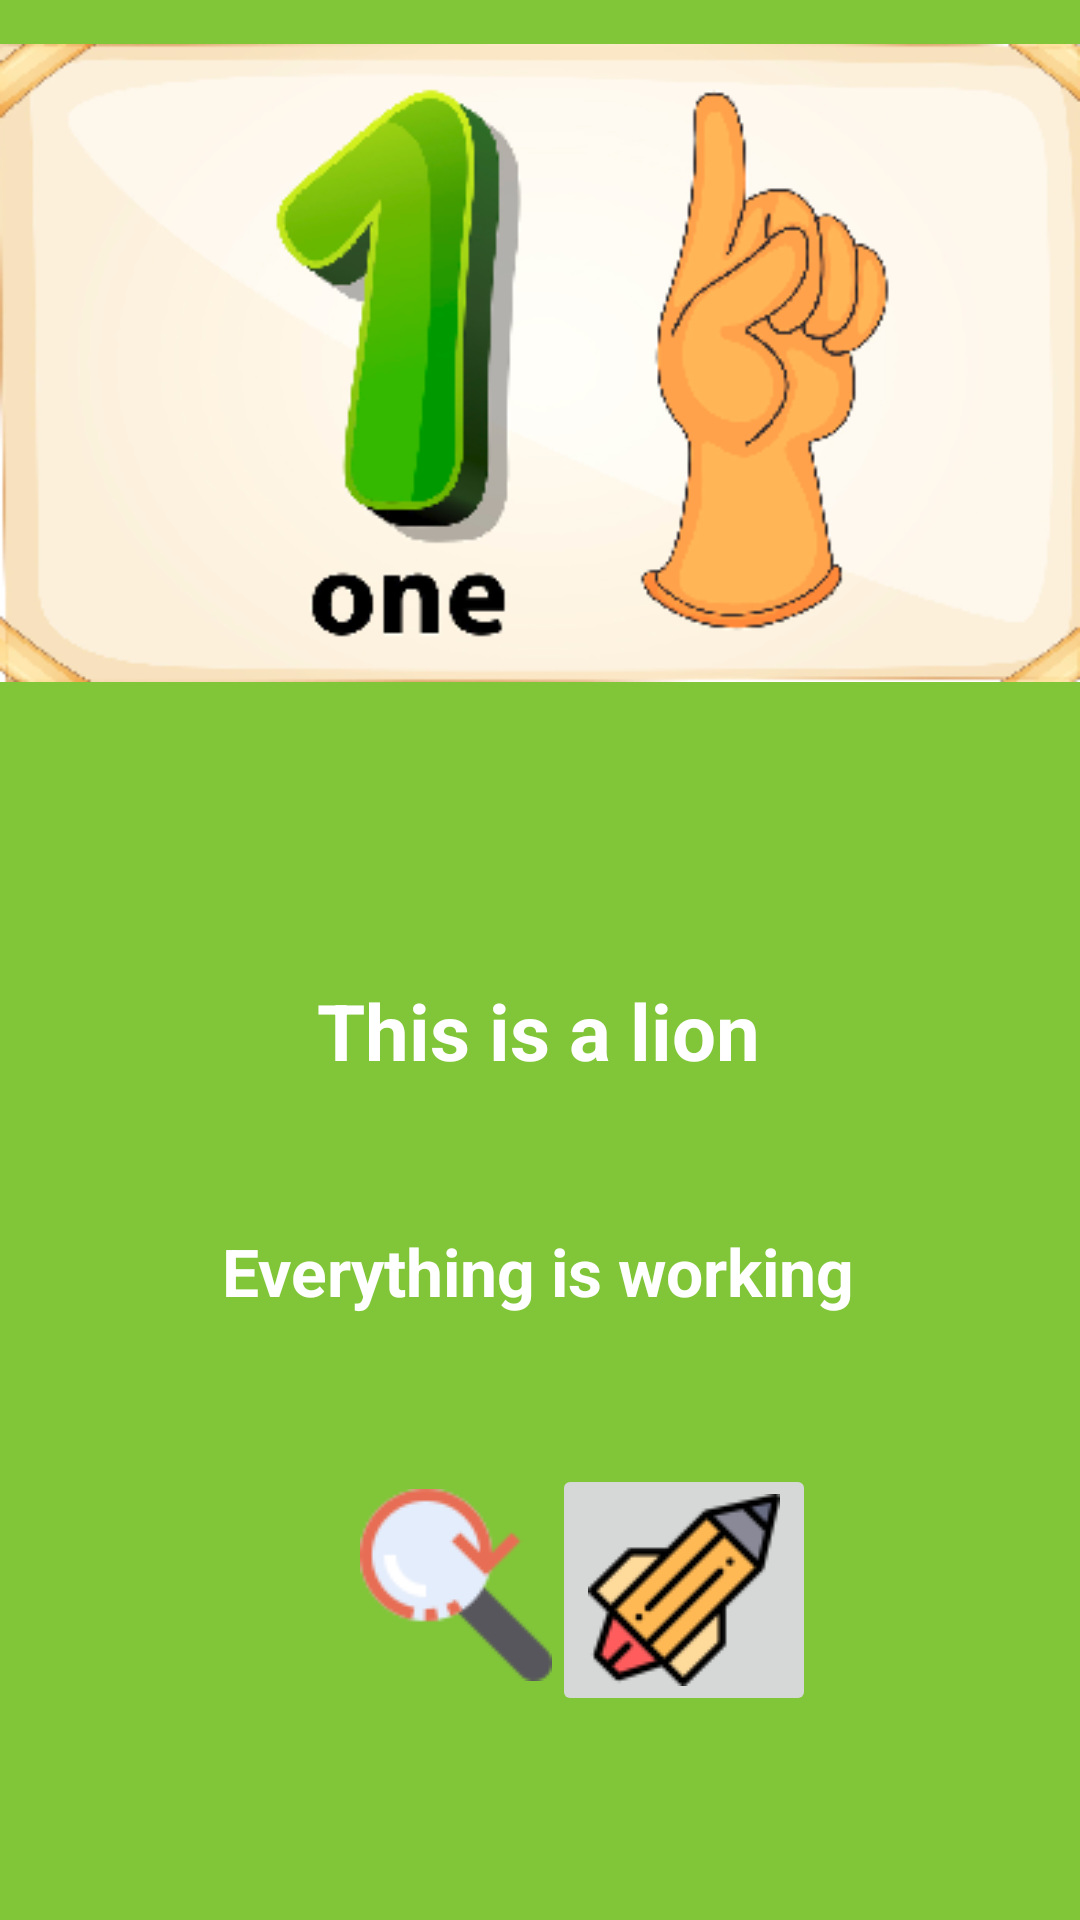

Locate icon controls on the screen. Image size 1080w x 1920h, boxes as BBox(x1, y1, x2, y2).
train again: BBox(360, 1489, 552, 1681)
